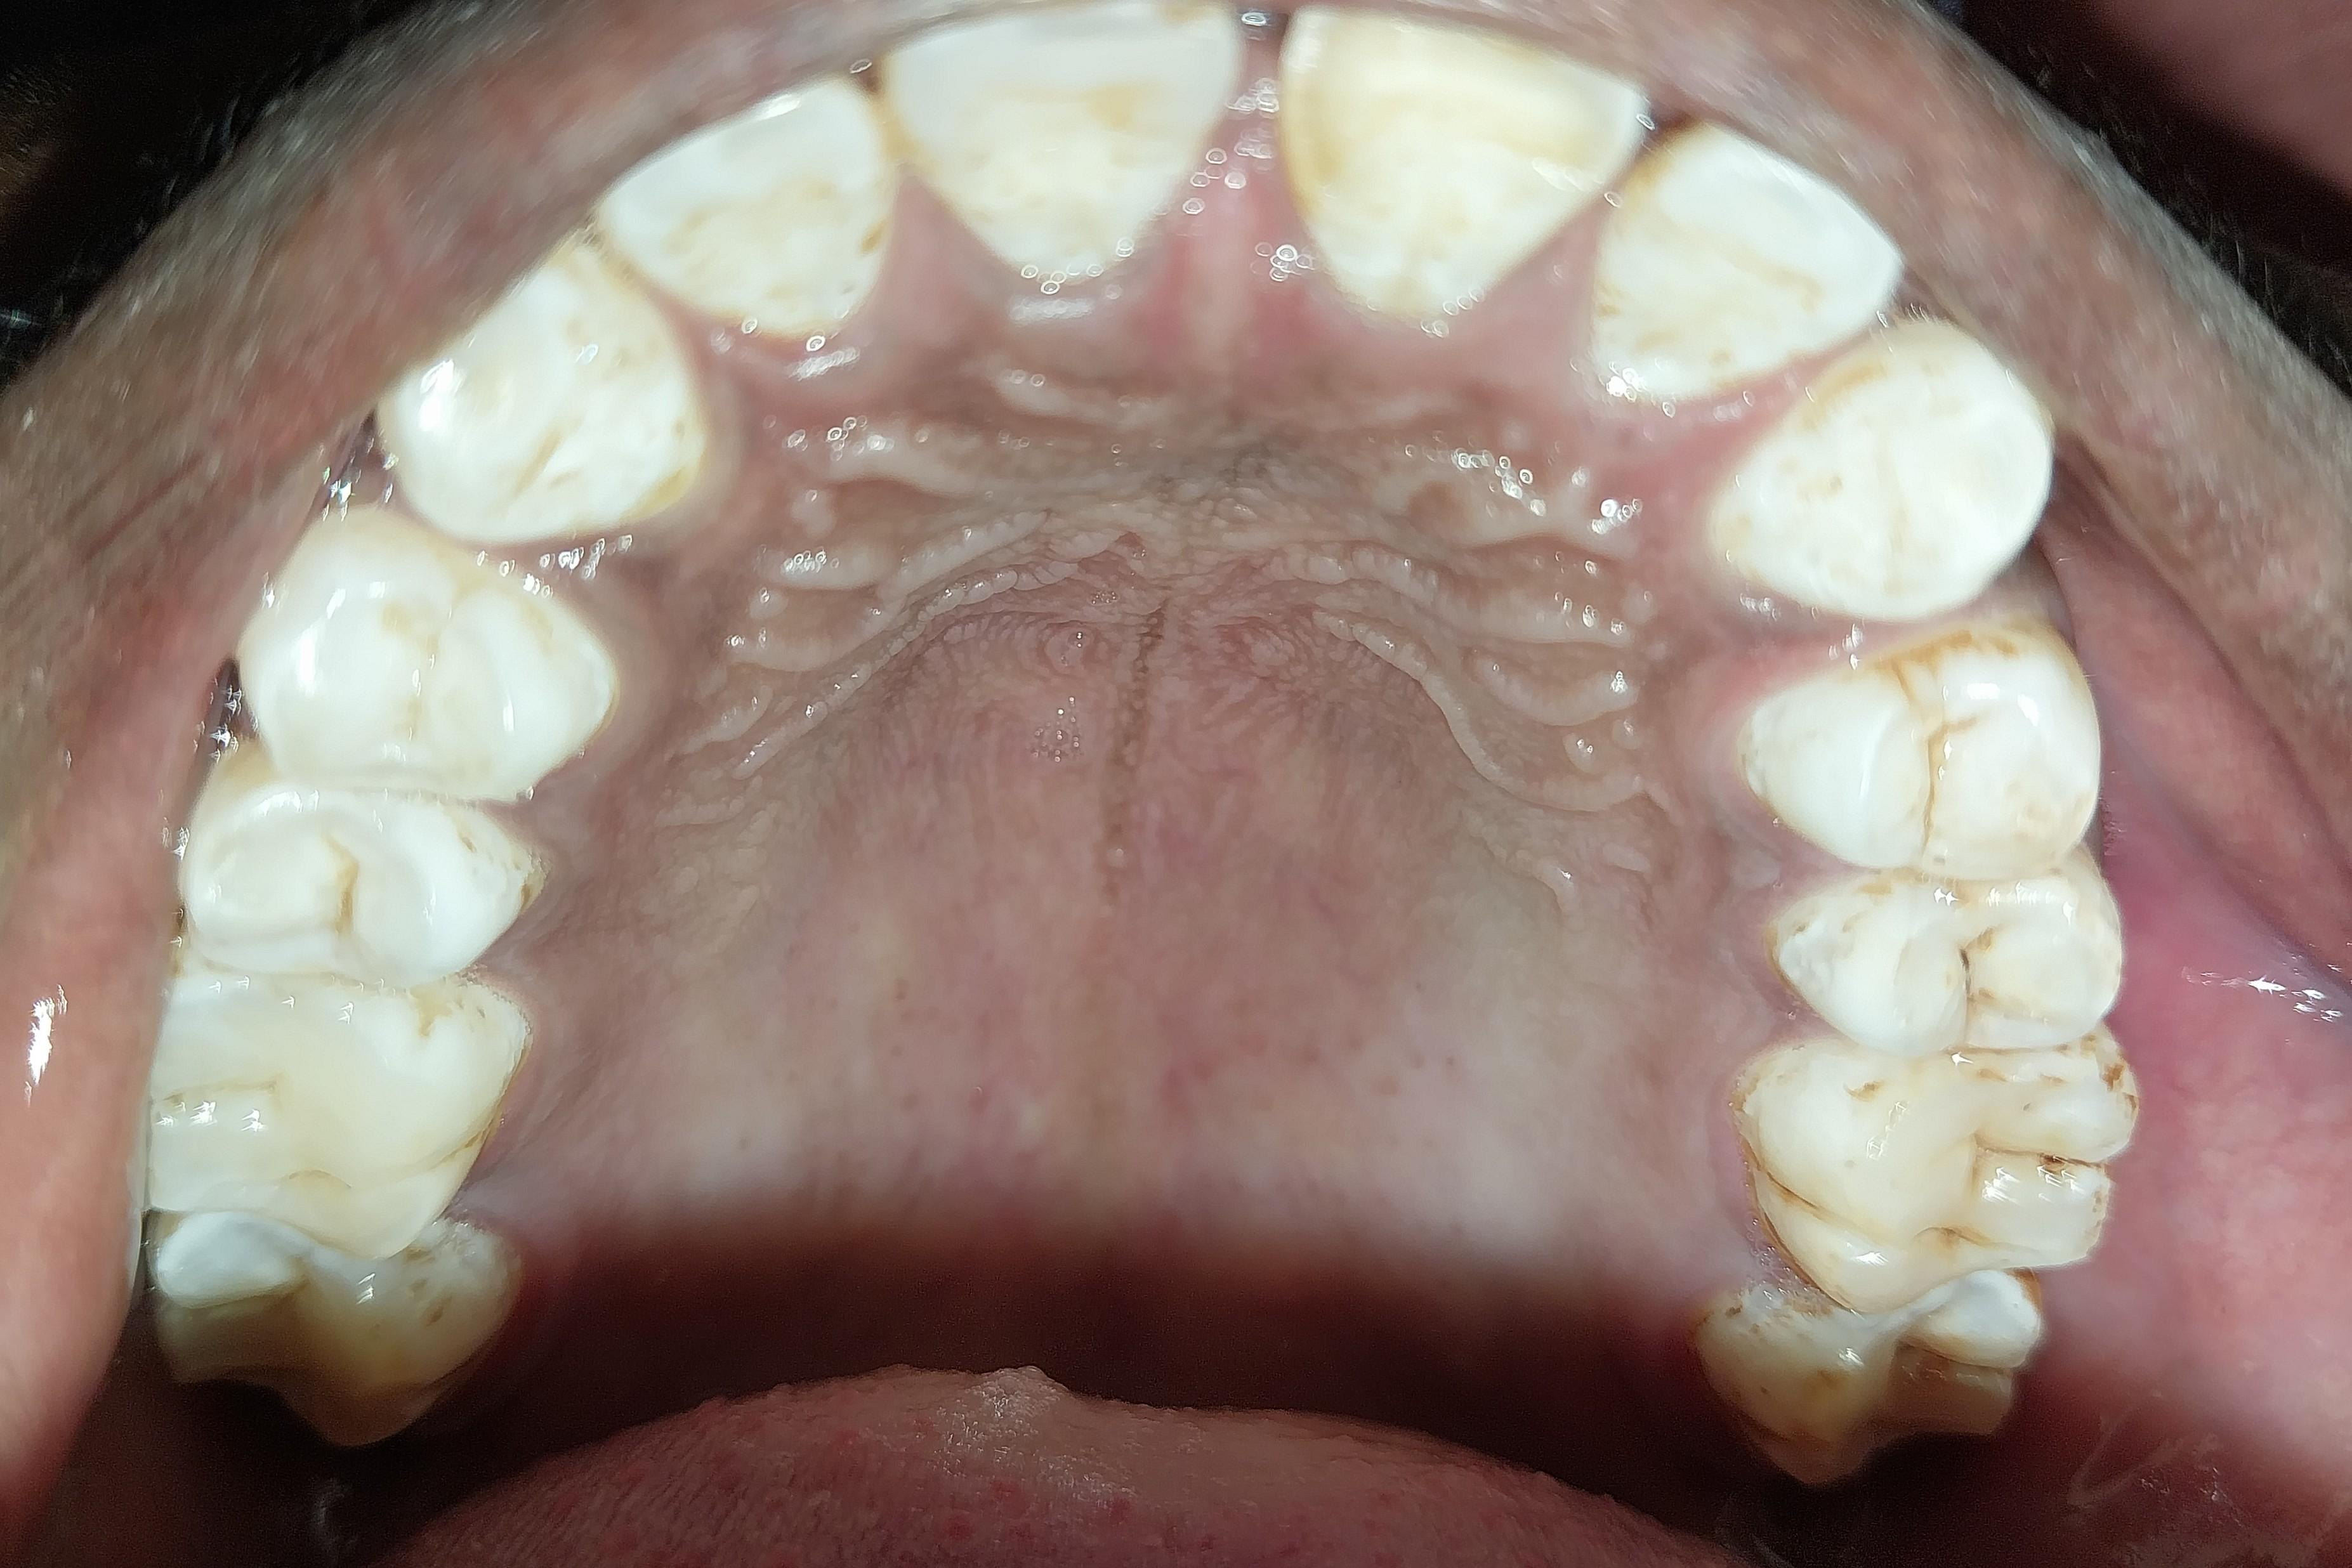D: (1749, 1037, 2127, 1308)
